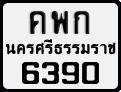letters: (28, 10, 47, 35), (50, 10, 69, 35), (72, 10, 91, 35), (21, 60, 40, 85), (61, 60, 80, 85), (81, 60, 100, 85), (41, 60, 60, 84)
province: (5, 37, 117, 56)
